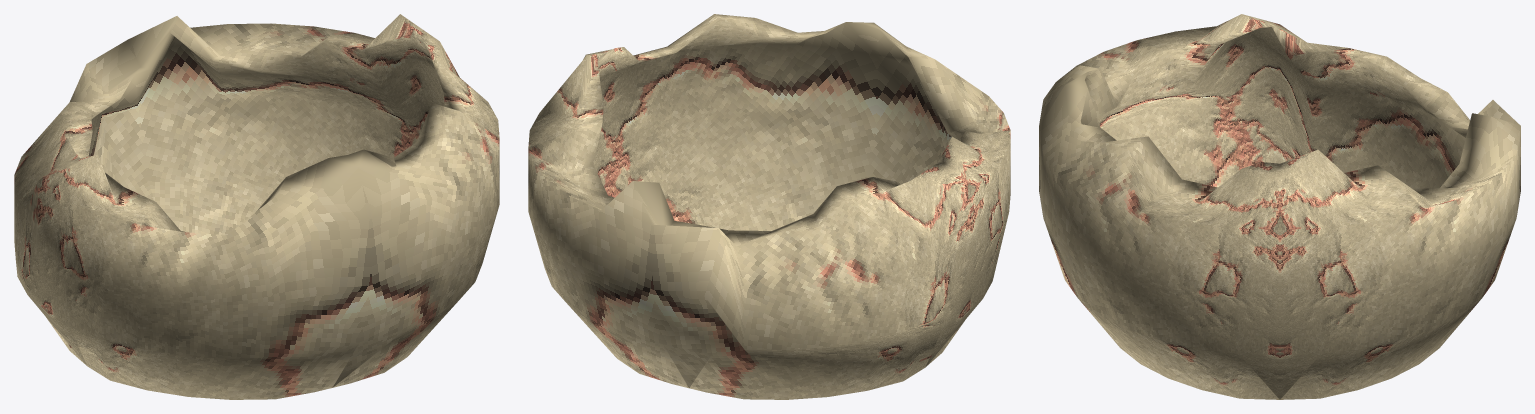
Rendered from pot_broken.glb.
3 renders of one model, left to right at view 1: azimuth 30°, elevation 25°; view 2: azimuth 150°, elevation 25°; view 3: azimuth 270°, elevation 25°, orthographic. The views are drawn at different scales.
Visible parts, largest first — view 1: pot_broken; view 2: pot_broken; view 3: pot_broken.
Part boxes in pixels (x1=…): pot_broken: x1=14, y1=14, x2=499, y2=399; pot_broken: x1=528, y1=14, x2=1010, y2=399; pot_broken: x1=1039, y1=14, x2=1520, y2=399.
Bounding box in the file's own units: 1.09 × 0.6355 × 1.09.
1 material, 1 textured.
